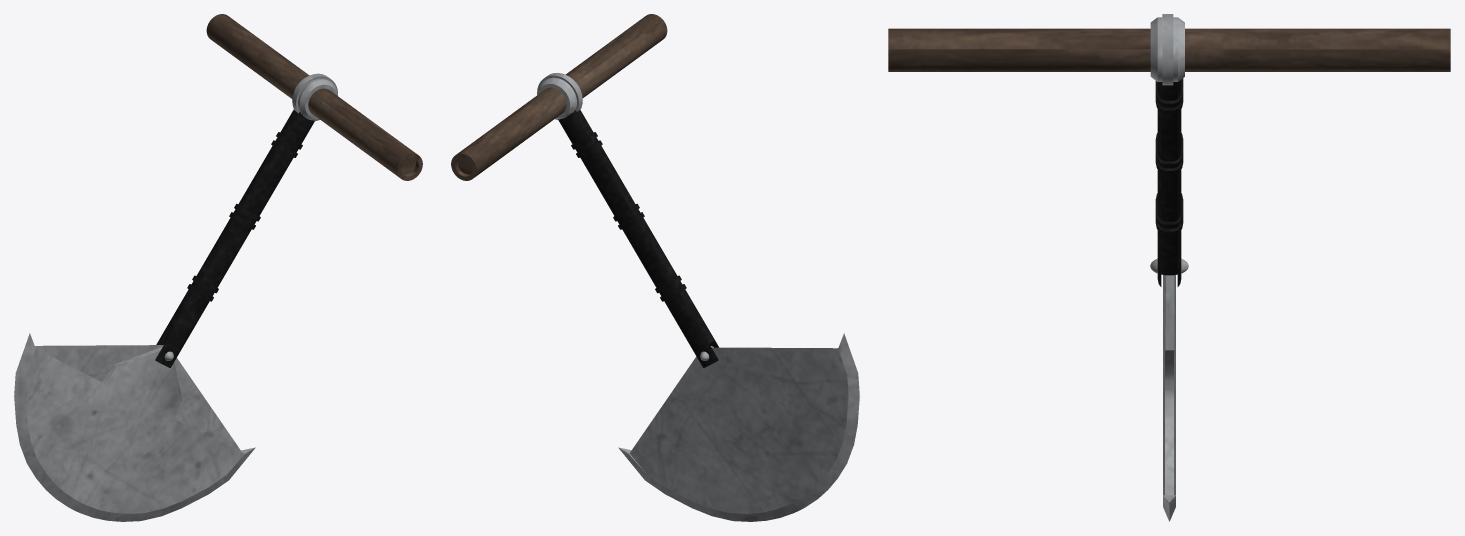
The model's file is swing axe trap Final.fbx.
The picture shows the model from 3 angles, left to right: view 1: azimuth 30°, elevation 25°; view 2: azimuth 150°, elevation 25°; view 3: azimuth 270°, elevation 25°; orthographic projection. The views are drawn at different scales.
Visible parts, largest first — view 1: Handle; view 2: Handle; view 3: Handle.
Boxes of the visible parts, box(x1,y1,x2,y2) form: Handle: box(14, 14, 422, 521); Handle: box(451, 14, 859, 521); Handle: box(888, 14, 1450, 521).
Size of the model in its own units: 272 by 326 by 279.
2 materials, 2 textured.
